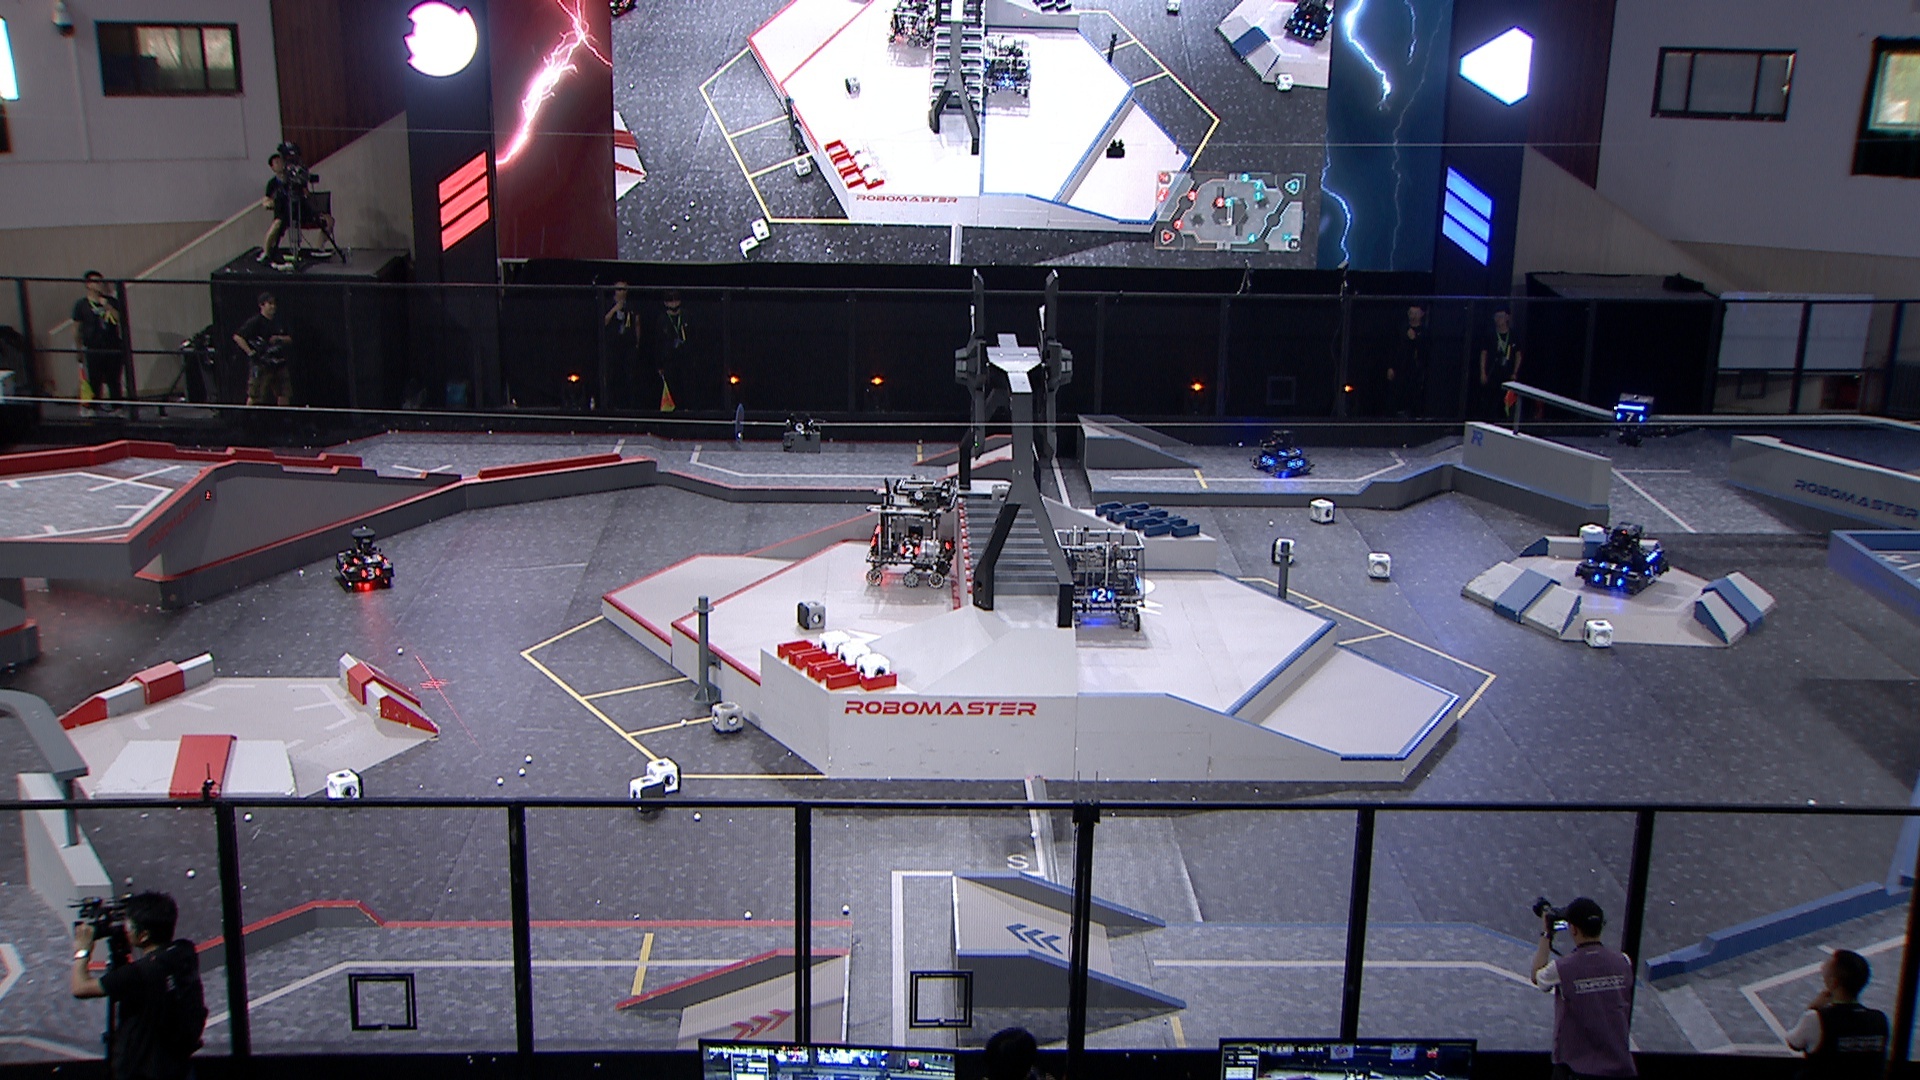armor: (1590, 571, 1625, 585), (1615, 409, 1646, 425), (1598, 559, 1629, 574), (357, 566, 382, 580), (897, 545, 920, 559), (1091, 588, 1112, 604), (351, 553, 381, 562), (1278, 447, 1302, 458), (1259, 454, 1276, 467), (1643, 564, 1662, 576), (1286, 458, 1305, 467)
car: (862, 471, 961, 589), (1046, 524, 1149, 632), (1572, 522, 1671, 595), (332, 524, 394, 589), (1247, 431, 1315, 476)
ignore: (982, 32, 1033, 102), (1280, 0, 1335, 41)
watcher: (1613, 392, 1656, 447)
